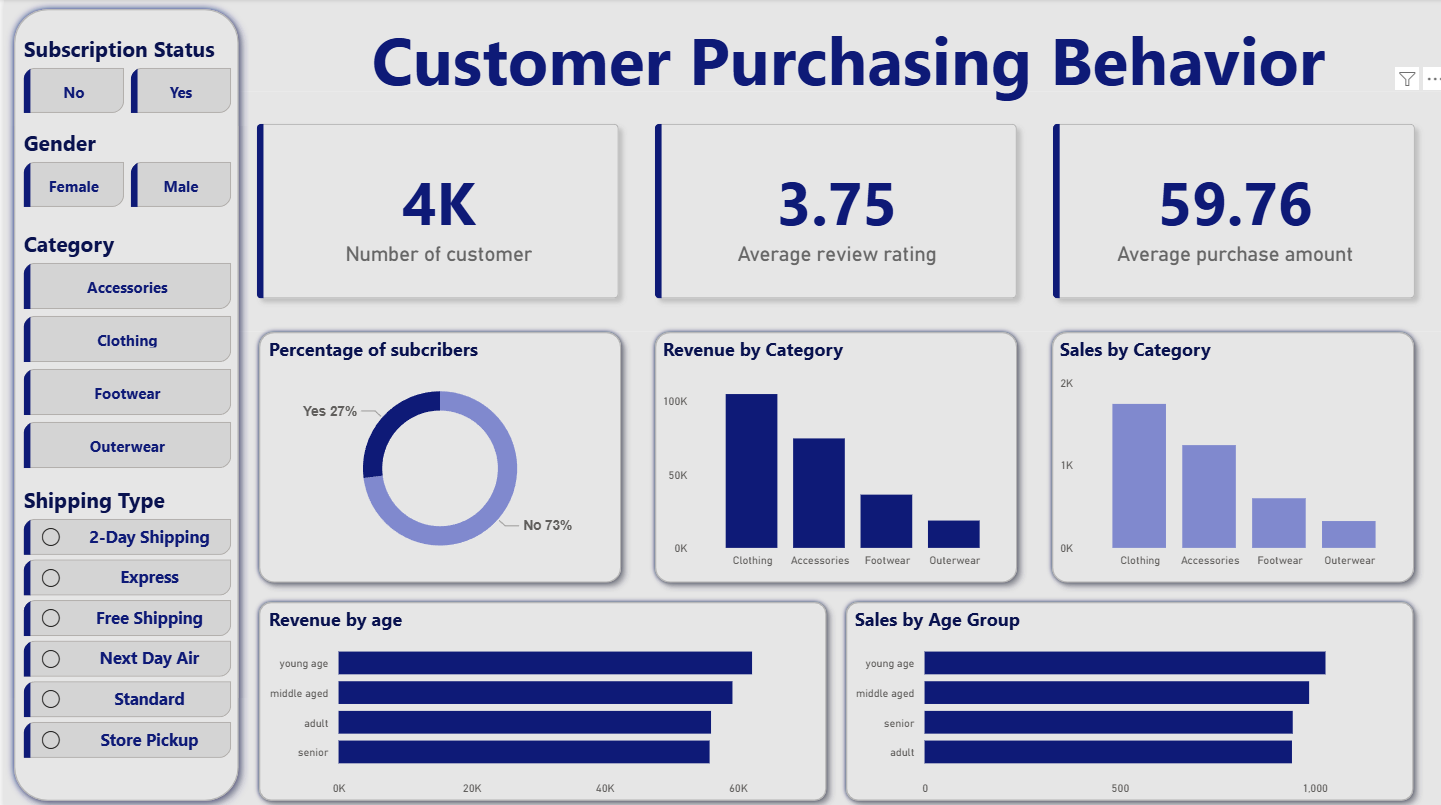

Layout of this report page (visuals, bound fields, positions):
{"tool":"powerbi","page":{"name":"Page 1","canvas":[1280,720],"ordinal":0},"visuals":[{"type":"cardVisual","fields":{"Data":["public customer.Number of customer","public customer.Average review rating","public customer.Average purchase amount"]},"box":[195,82,1085,213],"z":0},{"type":"textbox","box":[217.2,8,1063.2,106.4],"z":1000},{"type":"shape","box":[217,286,339,240],"z":2000},{"type":"donutChart","title":"Percentage of subcribers","fields":{"Category":["public customer.subscription_status"],"Y":["CountNonNull(public customer.customer_id)"]},"box":[230,300,314,212],"z":3000},{"type":"shape","box":[568,286,339,240],"z":4000},{"type":"shape","box":[920,286,339,240],"z":5000},{"type":"clusteredColumnChart","title":"Revenue by Category","fields":{"Y":["Sum(public customer.purchase_amount)"],"Category":["public customer.category"]},"box":[579,300,317,212],"z":6000},{"type":"clusteredColumnChart","title":"Sales by Category","fields":{"Category":["public customer.category"],"Y":["CountNonNull(public customer.customer_id)"]},"box":[931,300,317,212],"z":7000},{"type":"shape","box":[0,0,217,720],"z":8000},{"type":"advancedSlicerVisual","title":"Subscription Status","fields":{"Values":["public customer.subscription_status"]},"box":[12,31,194,75],"z":9000},{"type":"advancedSlicerVisual","title":"Gender","fields":{"Values":["public customer.gender"]},"box":[12,114,194,75],"z":10000},{"type":"advancedSlicerVisual","title":"Category","fields":{"Values":["public customer.category"]},"box":[12,204,194,220],"z":11000},{"type":"listSlicer","title":"Shipping Type","fields":{"Values":["public customer.shipping_type"]},"box":[12,431,194,289],"z":12000},{"type":"shape","box":[738,526,521,194],"z":13000},{"type":"shape","box":[217,526,521,194],"z":14000},{"type":"clusteredBarChart","title":"Revenue by age","fields":{"Y":["Sum(public customer.purchase_amount)"],"Category":["public customer.age_group"]},"box":[230,539,494,174],"z":15000},{"type":"clusteredBarChart","title":"Sales by Age Group","fields":{"Category":["public customer.age_group"],"Y":["CountNonNull(public customer.customer_id)"]},"box":[749,539,499,174],"z":16000}]}

Visuals, with their boxes in screenshot pixels (x1, y1, x2, y2), scaled from the page's 1280x720 canvas onto the 1441x805 screenshot:
cardVisual - public customer.Number of customer x public customer.Average review rating: region(220, 92, 1440, 330)
textbox: region(245, 9, 1440, 128)
shape: region(244, 320, 626, 588)
"Percentage of subcribers" donutChart: region(259, 335, 612, 572)
shape: region(639, 320, 1021, 588)
shape: region(1036, 320, 1417, 588)
"Revenue by Category" clusteredColumnChart: region(652, 335, 1009, 572)
"Sales by Category" clusteredColumnChart: region(1048, 335, 1405, 572)
shape: region(0, 0, 244, 804)
"Subscription Status" advancedSlicerVisual: region(14, 35, 232, 119)
"Gender" advancedSlicerVisual: region(14, 127, 232, 211)
"Category" advancedSlicerVisual: region(14, 228, 232, 474)
"Shipping Type" listSlicer: region(14, 482, 232, 804)
shape: region(831, 588, 1417, 804)
shape: region(244, 588, 831, 804)
"Revenue by age" clusteredBarChart: region(259, 603, 815, 797)
"Sales by Age Group" clusteredBarChart: region(843, 603, 1405, 797)
